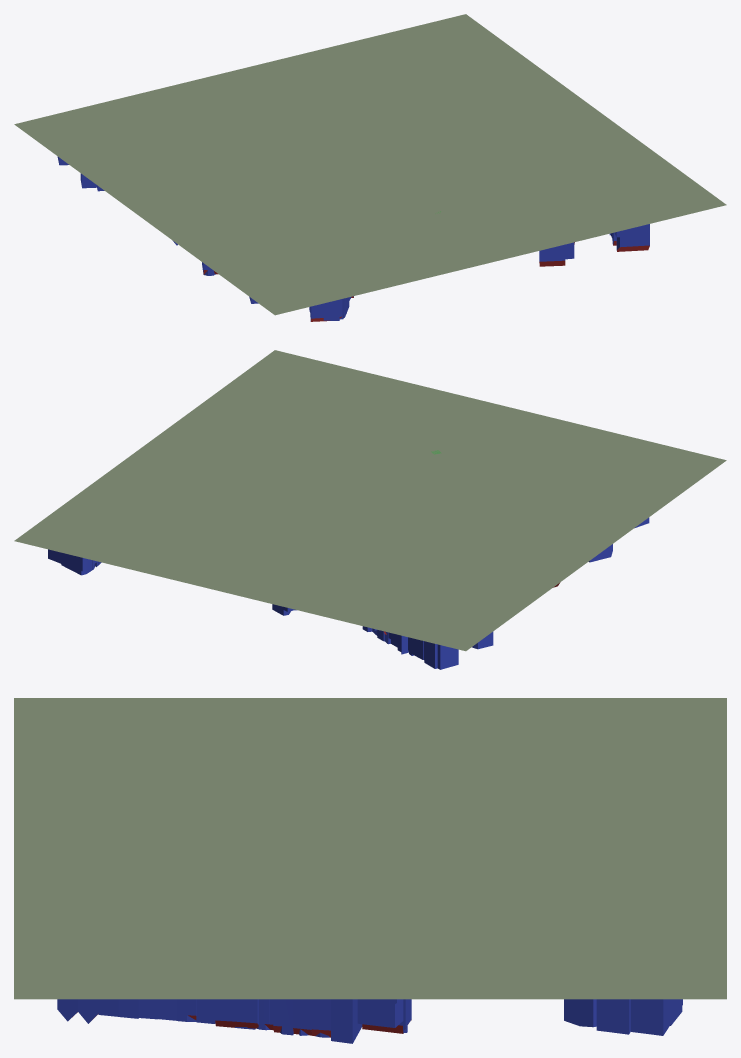
The picture shows the model from 3 angles, top to bottom: view 1: azimuth 30°, elevation 25°; view 2: azimuth 150°, elevation 25°; view 3: azimuth 270°, elevation 25°; orthographic projection. The views are drawn at different scales.
Visible parts, largest first — view 1: ground_plane, NL.IMBAG.Pand.0363100012174446_hip, NL.IMBAG.Pand.0363100012174444_tri-slope, NL.IMBAG.Pand.0363100012165353_complex; view 2: ground_plane, NL.IMBAG.Pand.0363100012237310_gable, NL.IMBAG.Pand.0363100012168519_hip; view 3: ground_plane, NL.IMBAG.Pand.0363100012174366_gable, NL.IMBAG.Pand.0363100012167460_complex, NL.IMBAG.Pand.0363100012174367_gable, NL.IMBAG.Pand.0363100012168519_hip, NL.IMBAG.Pand.0363100012174361_gable, NL.IMBAG.Pand.0363100012174368_complex, NL.IMBAG.Pand.0363100012174363_hip, NL.IMBAG.Pand.0363100012174364_hip, NL.IMBAG.Pand.0363100012168516_tri-slope, NL.IMBAG.Pand.0363100012174453_complex, NL.IMBAG.Pand.0363100012168514_hip.
Part boxes in pixels (left/top/right/bottom): ground_plane: left=14, top=14, right=726, bottom=315; NL.IMBAG.Pand.0363100012174446_hip: left=614, top=224, right=649, bottom=251; NL.IMBAG.Pand.0363100012174444_tri-slope: left=539, top=242, right=574, bottom=266; NL.IMBAG.Pand.0363100012165353_complex: left=310, top=298, right=344, bottom=321; ground_plane: left=14, top=350, right=726, bottom=651; NL.IMBAG.Pand.0363100012237310_gable: left=408, top=637, right=458, bottom=669; NL.IMBAG.Pand.0363100012168519_hip: left=48, top=549, right=89, bottom=575; ground_plane: left=14, top=698, right=726, bottom=999; NL.IMBAG.Pand.0363100012174366_gable: left=357, top=999, right=403, bottom=1027; NL.IMBAG.Pand.0363100012167460_complex: left=234, top=999, right=273, bottom=1030; NL.IMBAG.Pand.0363100012174367_gable: left=331, top=999, right=362, bottom=1043; NL.IMBAG.Pand.0363100012168519_hip: left=647, top=999, right=682, bottom=1035; NL.IMBAG.Pand.0363100012174361_gable: left=564, top=999, right=596, bottom=1027; NL.IMBAG.Pand.0363100012174368_complex: left=311, top=999, right=330, bottom=1037; NL.IMBAG.Pand.0363100012174363_hip: left=273, top=999, right=293, bottom=1035; NL.IMBAG.Pand.0363100012174364_hip: left=293, top=999, right=312, bottom=1035; NL.IMBAG.Pand.0363100012168516_tri-slope: left=613, top=999, right=630, bottom=1034; NL.IMBAG.Pand.0363100012174453_complex: left=215, top=999, right=234, bottom=1027; NL.IMBAG.Pand.0363100012168514_hip: left=596, top=999, right=612, bottom=1032.
Size of the model in its own units: 230 by 26.25 by 230.
